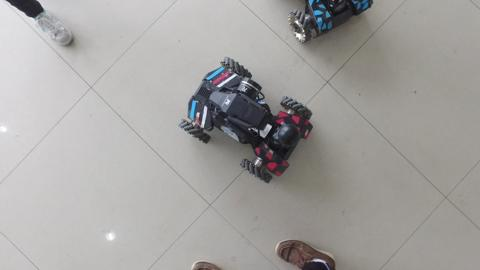chariot: (176, 51, 318, 190), (284, 1, 377, 47)
